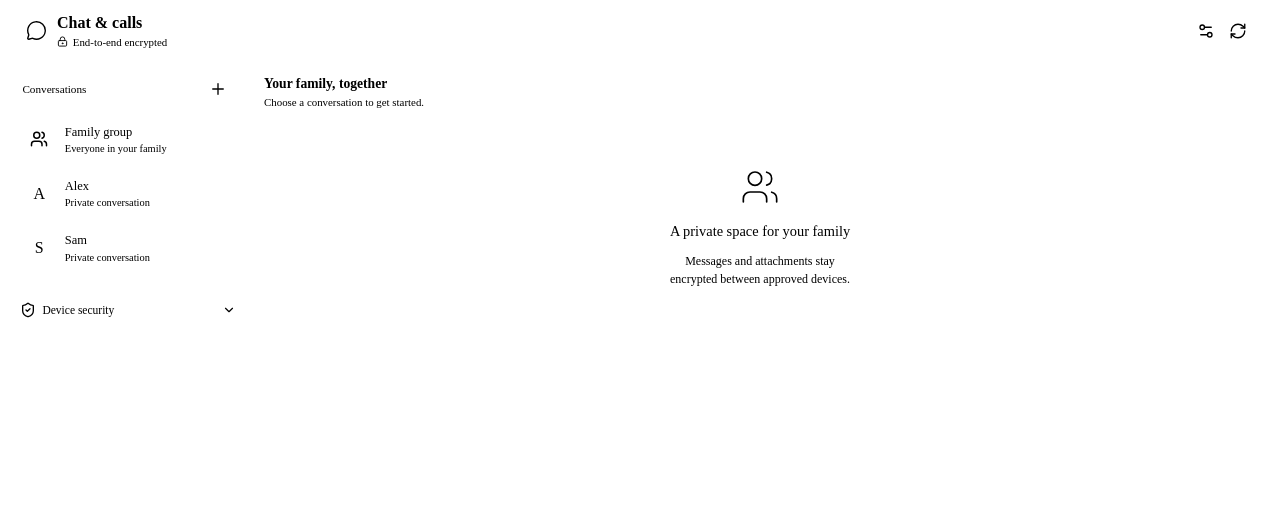
Scenario: creates a named private channel with selected members and keeps direct chat separate
Check: the button with aria-label "Message alex" is shown, box [14,168,242,219]
Click the button named "Create channel" at (218, 89), box [202,78,234,100]
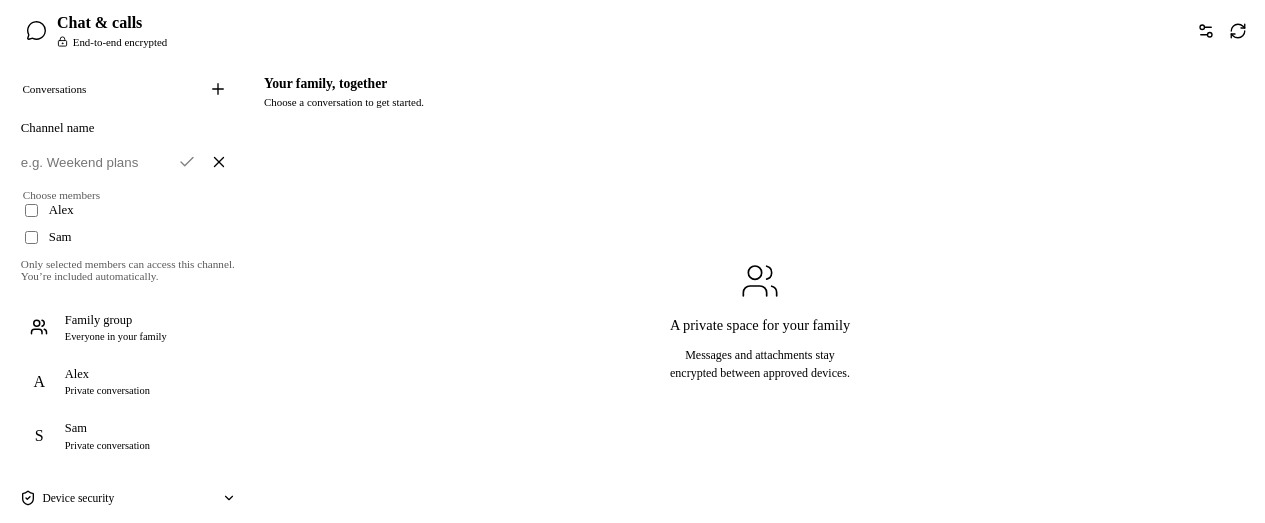
Check: the button named "Save channel" is disabled, box [171,152,203,174]
Type "Weekend plans" into the field labelled "Channel name" at (96, 162), box [21,147,171,178]
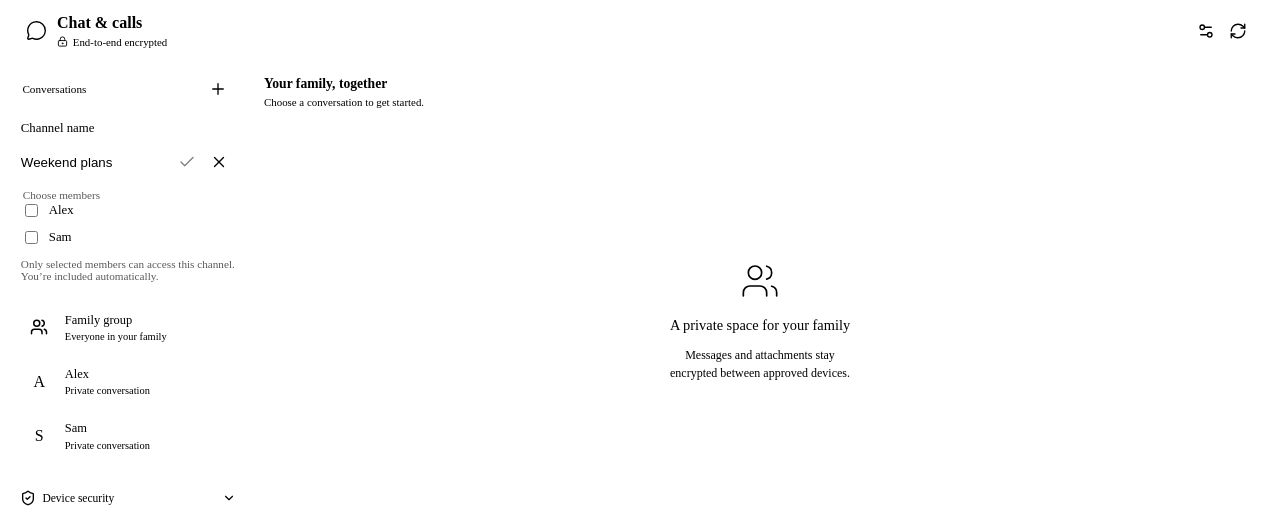
Click the checkbox labelled "Alex" at (31, 211), box [25,204,38,217]
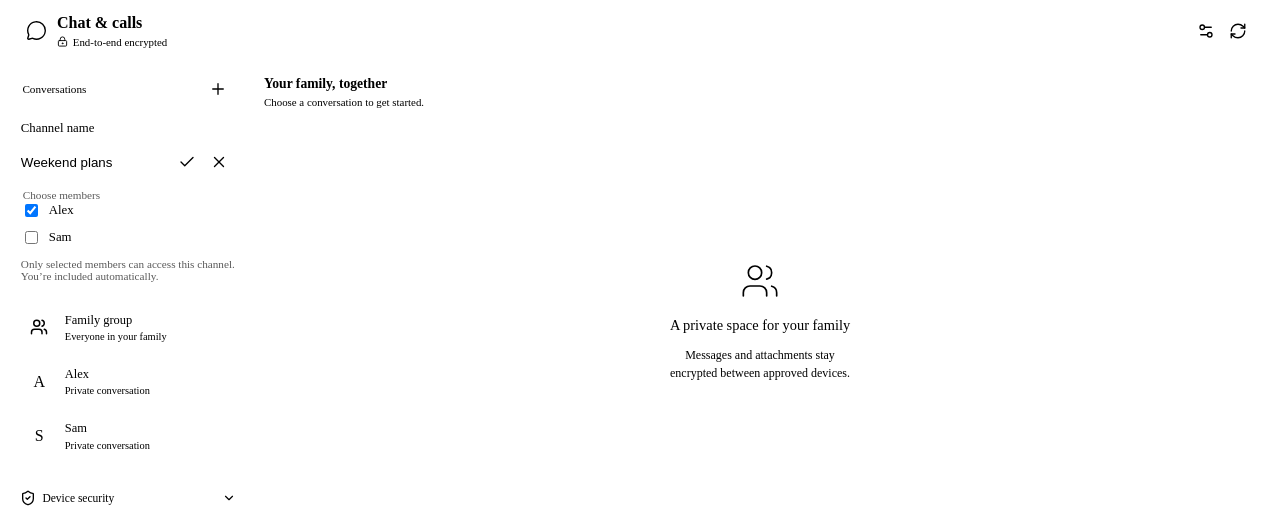
Click the button named "Save channel" at (187, 162), box [171,152,203,174]
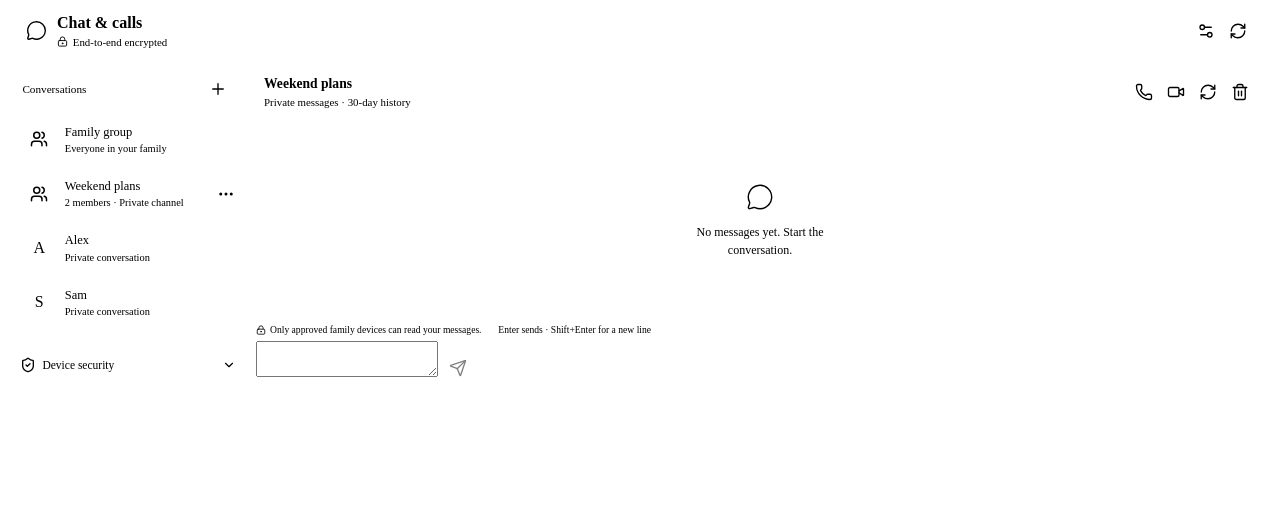
Check: the heading "Weekend plans" is shown, box [264,76,352,91]
Click the button with aria-label "Message alex" at (128, 248), box [14,222,242,274]
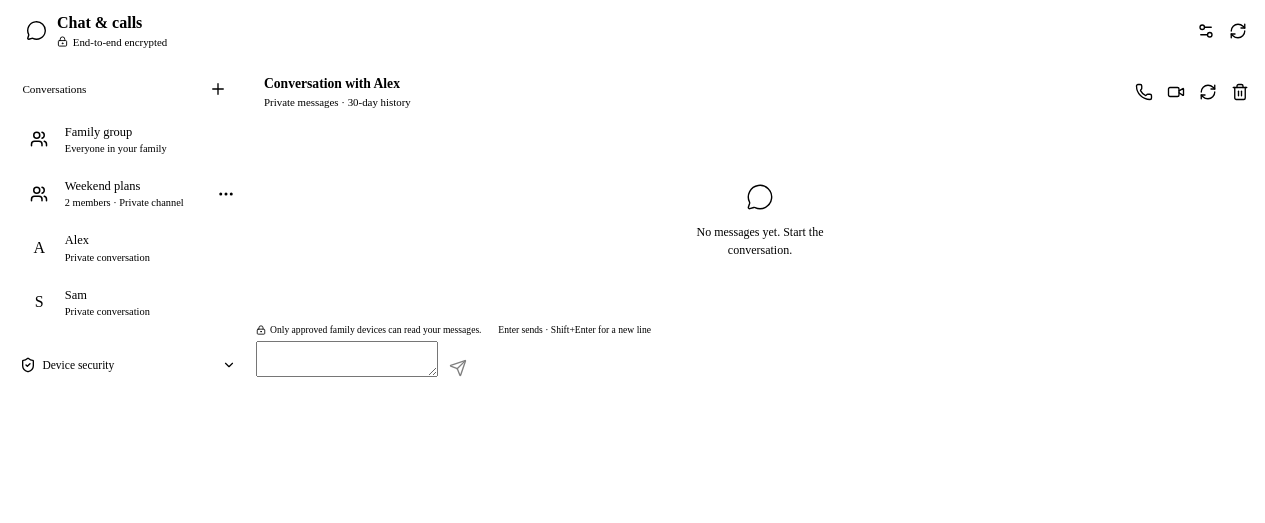
Check: the heading "Conversation with Alex" is shown, box [264,76,411,92]
